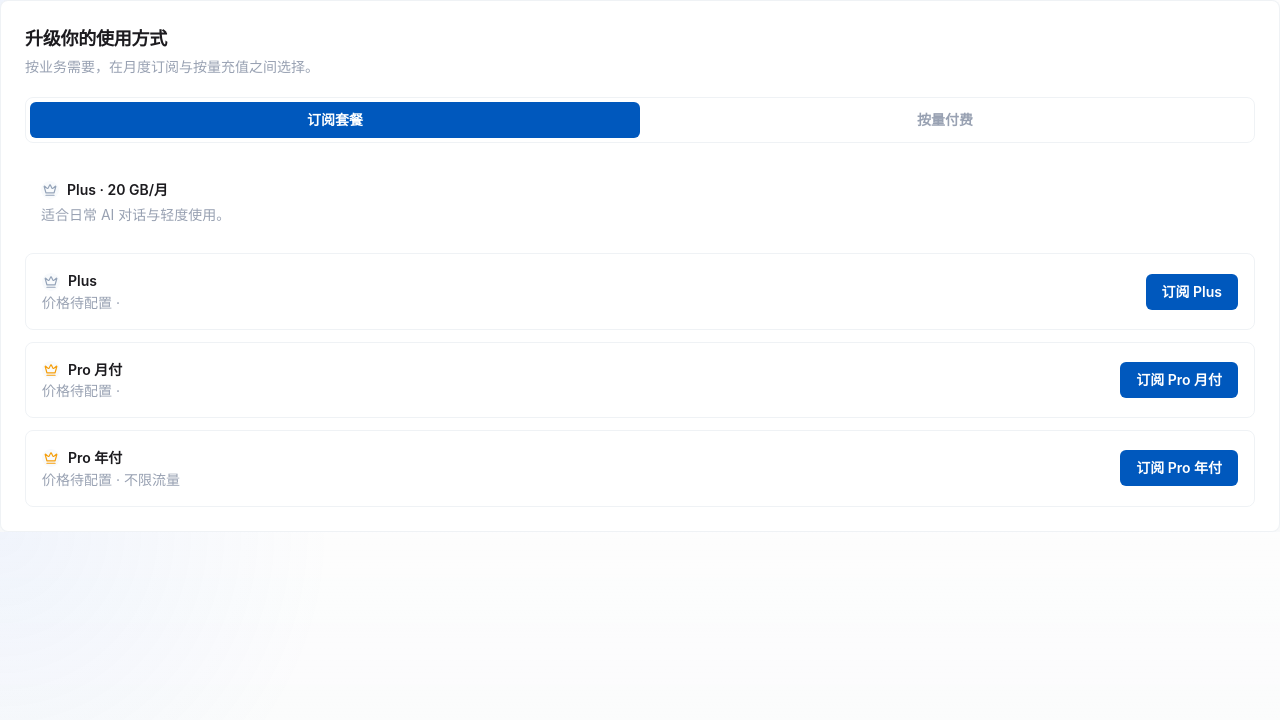
Scenario: BillingOptionsPanel › previews a fresh annual subscription, names its button correctly and waits for confirmation
Click the button "订阅 Pro 年付" at (1179, 468), box [1120,450,1238,486]
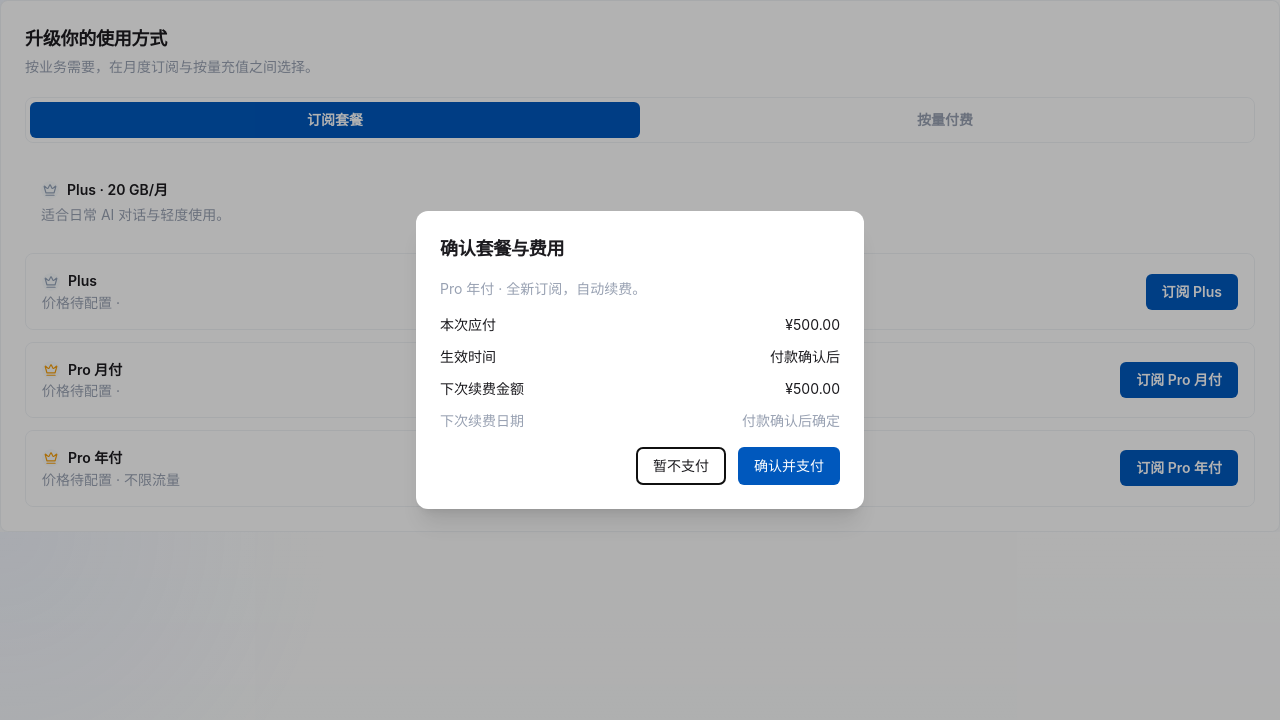
Result: the dialog is shown at [416,211,864,509]
Result: the text "本次应付" is shown at [440,315,496,335]
Result: the text "下次续费金额" is shown at [440,379,524,399]
Click the button "确认并支付" at (789, 466), box [738,447,840,485]
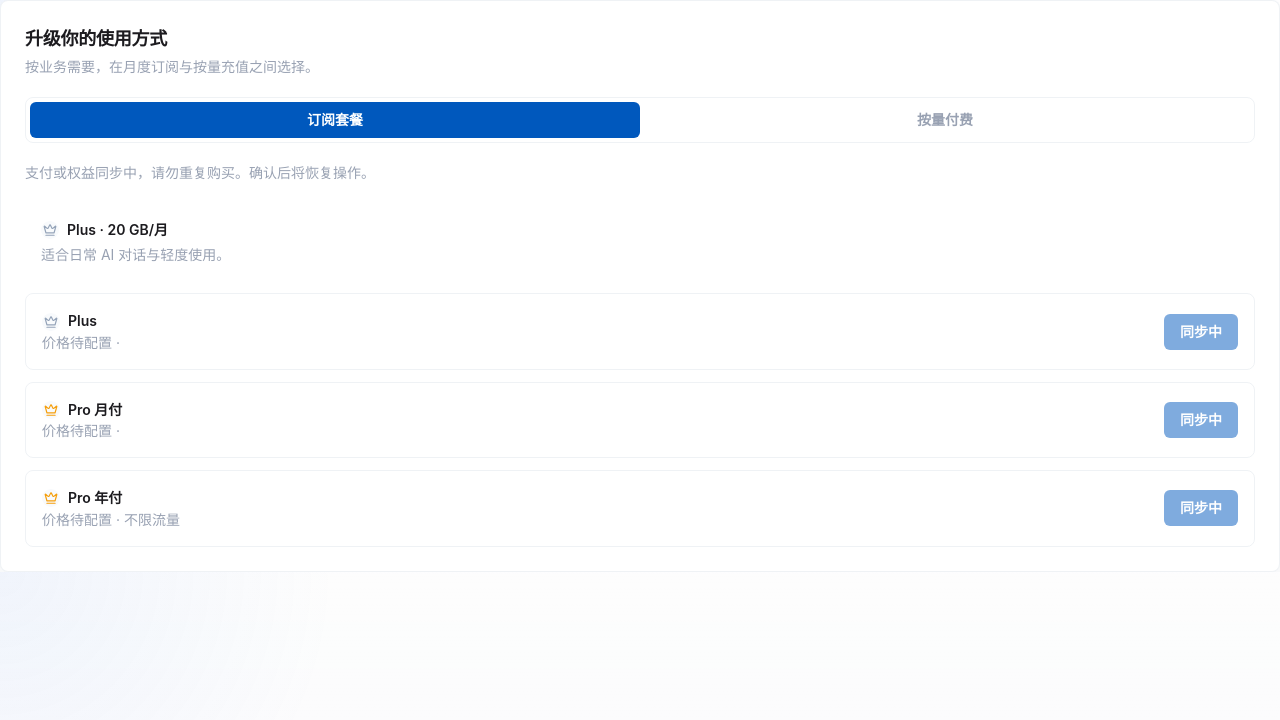
Result: the number of buttons "同步中" is 3 at [1164,314,1238,350]; [1164,402,1238,438]; [1164,490,1238,526]
